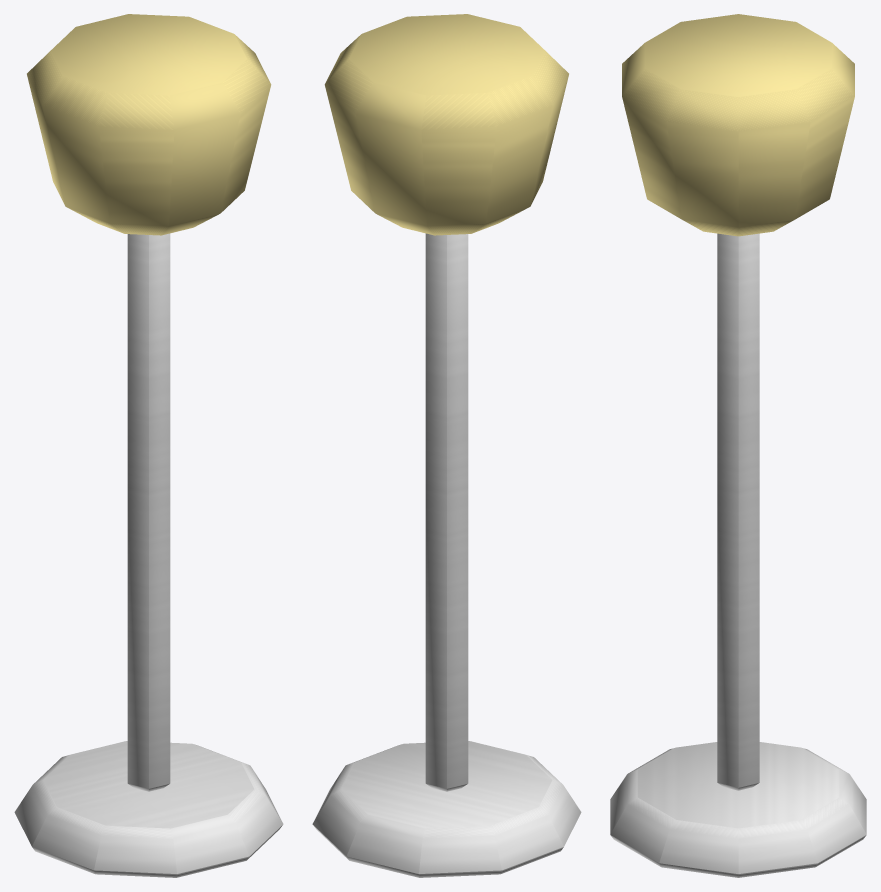
Rendered from standing_lamp.obj.
The picture shows the model from 3 angles, left to right: view 1: azimuth 30°, elevation 25°; view 2: azimuth 150°, elevation 25°; view 3: azimuth 270°, elevation 25°; orthographic projection.
Parts seen in each view (by area): view 1: source_part_02, source_part_00, source_part_01; view 2: source_part_02, source_part_00, source_part_01; view 3: source_part_02, source_part_00, source_part_01.
Part boxes in pixels (bbox=[...]): source_part_02: bbox=[27, 14, 271, 235]; source_part_00: bbox=[14, 741, 283, 877]; source_part_01: bbox=[127, 233, 170, 791]; source_part_02: bbox=[324, 14, 568, 235]; source_part_00: bbox=[312, 741, 581, 877]; source_part_01: bbox=[425, 233, 468, 791]; source_part_02: bbox=[622, 14, 854, 236]; source_part_00: bbox=[610, 742, 866, 877]; source_part_01: bbox=[717, 233, 759, 790].
Bounding box in the file's own units: 0.44 × 1.38 × 0.4184.
